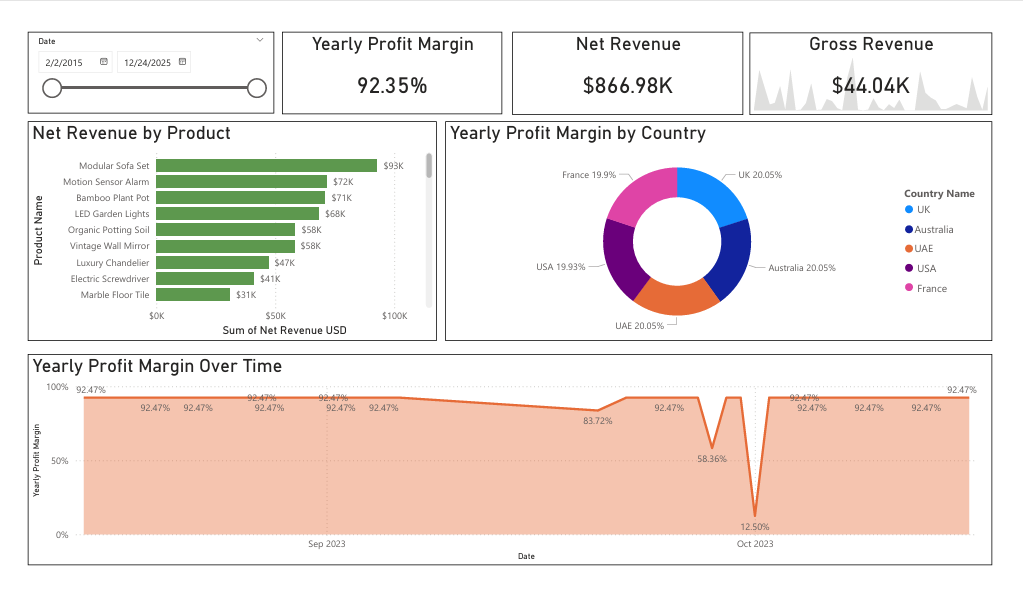

This screenshot's page, from the dashboard's own definition file:
{"tool":"powerbi","page":{"name":"Profit  Overview","canvas":[1280,720],"ordinal":1},"visuals":[{"type":"clusteredBarChart","title":"Net Revenue by  Product","fields":{"Category":["Sales in USD.Product Name"],"Y":["Sum(Sales in USD.Net Revenue USD)"]},"box":[12.4,132.2,530.4,284.6],"z":0},{"type":"donutChart","title":"Yearly Profit  Margin by Country","fields":{"Category":["Sales in USD.Country Name"],"Y":["Sales in USD.Yearly Profit Margin"]},"box":[553.7,132.2,710.8,284.6],"z":1000},{"type":"areaChart","title":"Yearly Profit  Margin Over Time","fields":{"Category":["Calendar.Date"],"Y":["Sales in USD.Yearly Profit Margin"]},"box":[12.4,433.9,1252,273.7],"z":2000},{"type":"card","title":"Net Revenue","fields":{"Values":["Sum(Sales in USD.Net Revenue USD)"]},"box":[640.8,15.6,300.2,108.9],"z":3000},{"type":"kpi","title":"Gross Revenue","fields":{"Indicator":["Sum(Sales in USD.Gross Revenue USD)"],"TrendLine":["Calendar.Date"]},"box":[948.7,17.1,315.7,107.3],"z":4000},{"type":"card","title":"Yearly Profit Margin","fields":{"Values":["Sales in USD.Yearly Profit Margin"]},"box":[342.2,15.6,286.2,107.3],"z":5000},{"type":"slicer","fields":{"Values":["Calendar.Date"]},"box":[12,16.4,319.7,106.1],"z":6000}]}

Visuals, with their boxes in screenshot pixels (x1, y1, x2, y2), scaled from the page's 1280x720 canvas onto the 1023x592 screenshot:
"Net Revenue by  Product" clusteredBarChart: (10,109,434,343)
"Yearly Profit  Margin by Country" donutChart: (443,109,1011,343)
"Yearly Profit  Margin Over Time" areaChart: (10,357,1011,582)
"Net Revenue" card: (512,13,752,102)
"Gross Revenue" kpi: (758,14,1011,102)
"Yearly Profit Margin" card: (273,13,502,101)
slicer - Calendar.Date: (10,13,265,101)
